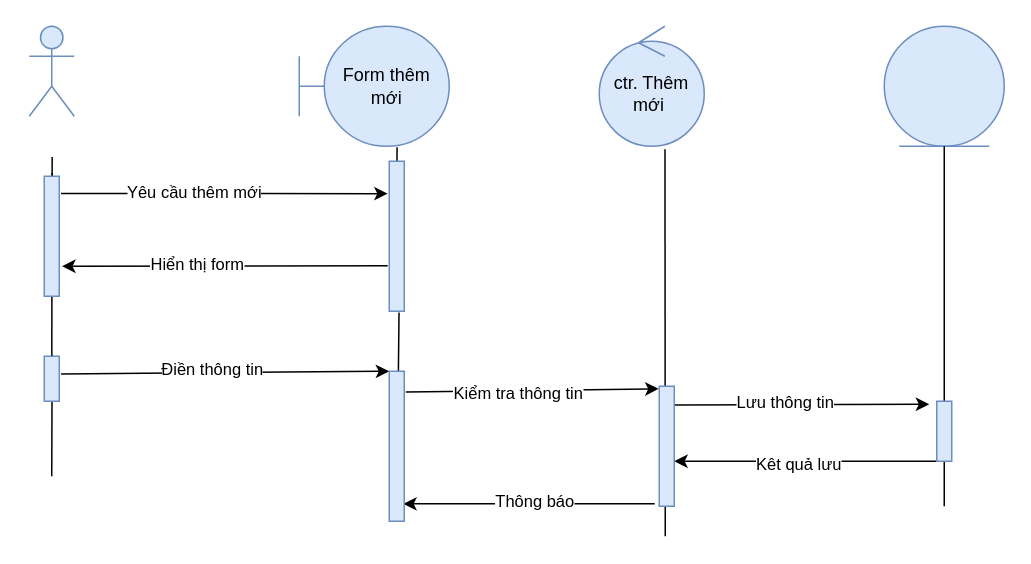
Image size: 1031x564. Some labels were removed from this diagram. Here are the shapes that lost their labels. From the top down, the centre of each, then its label:
the point at 51,70: Admin
the point at 943,85: Người tạo nội dung
